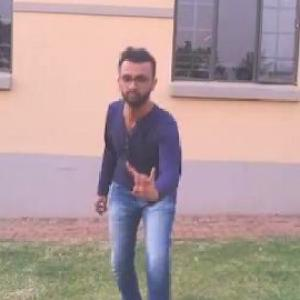takeoff-hand: (122, 150, 170, 206)
